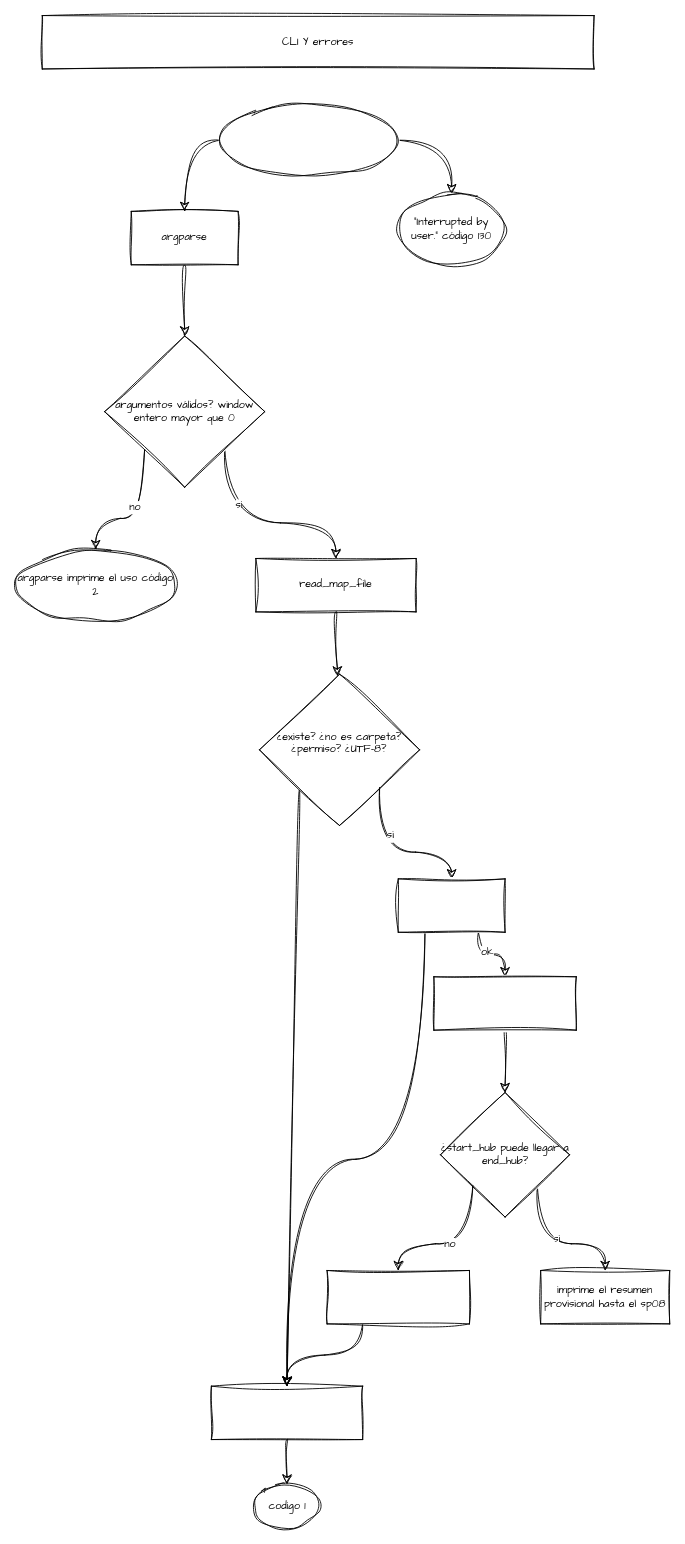
This 685x1544 diagram has some shape labels left out. Here are the shapes that lost their labels. From the top down, the centre of each, then its label:
At (x=308, y=140): "python -m fly_in.main mapa -- window W".
At (x=451, y=905): "MapParse.parse".
At (x=504, y=1003): "AbstractDistance(graph)".
At (x=397, y=1297): "lanza MapValidationError".
At (x=286, y=1412): "Captura MapError: 'Error: ...' por stderr".
